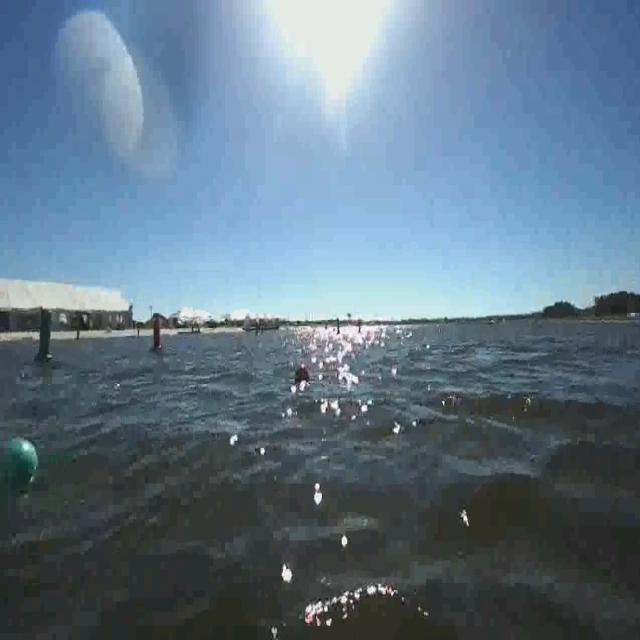green-buoy: (0, 428, 41, 493)
green-column-buoy: (36, 312, 54, 364)
red-buoy: (296, 358, 310, 386)
red-column-buoy: (149, 316, 164, 355)
